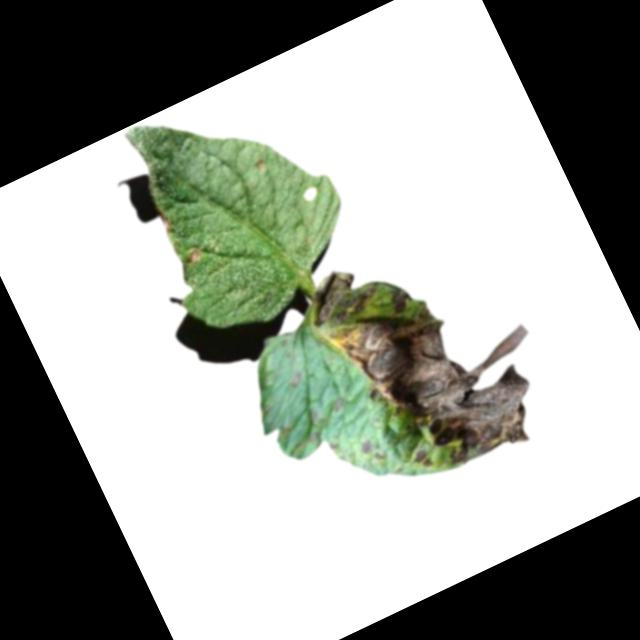Early_blight: (297, 207, 573, 503), (154, 205, 175, 235), (183, 242, 205, 265)
